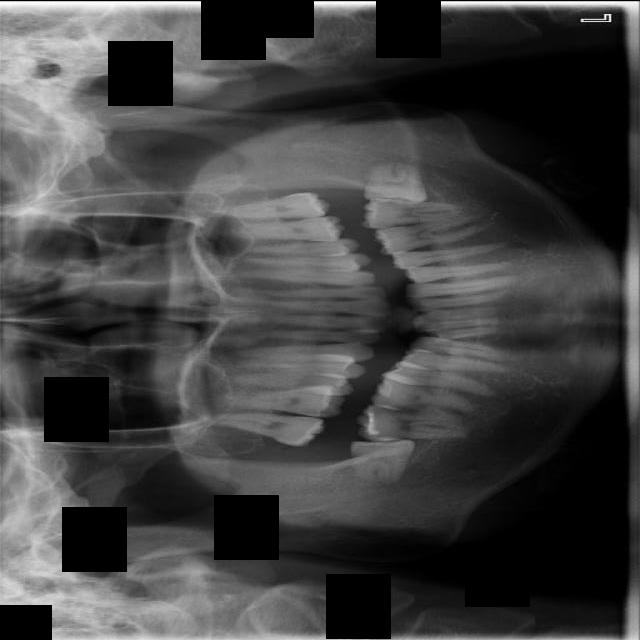52: (357, 403, 405, 443), (396, 393, 429, 421)
BioHorizons Implant: (219, 189, 329, 219)
Biomet 3i Implant: (364, 160, 427, 207)
Blue Sky Bio Implant: (361, 193, 468, 229)
Caries: (207, 409, 324, 447)
Implant: (353, 400, 468, 443)
Keystone Dental Implant: (351, 438, 416, 485)
